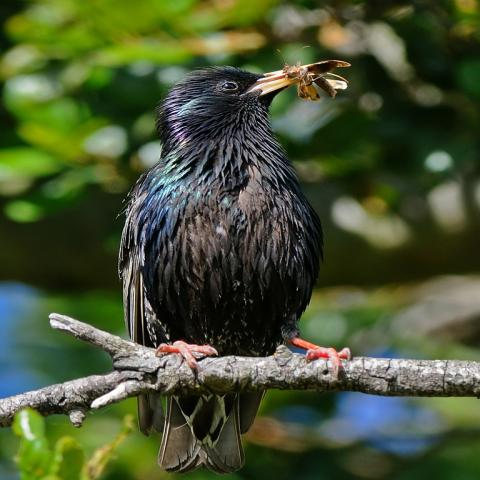bird: (114, 62, 354, 474)
